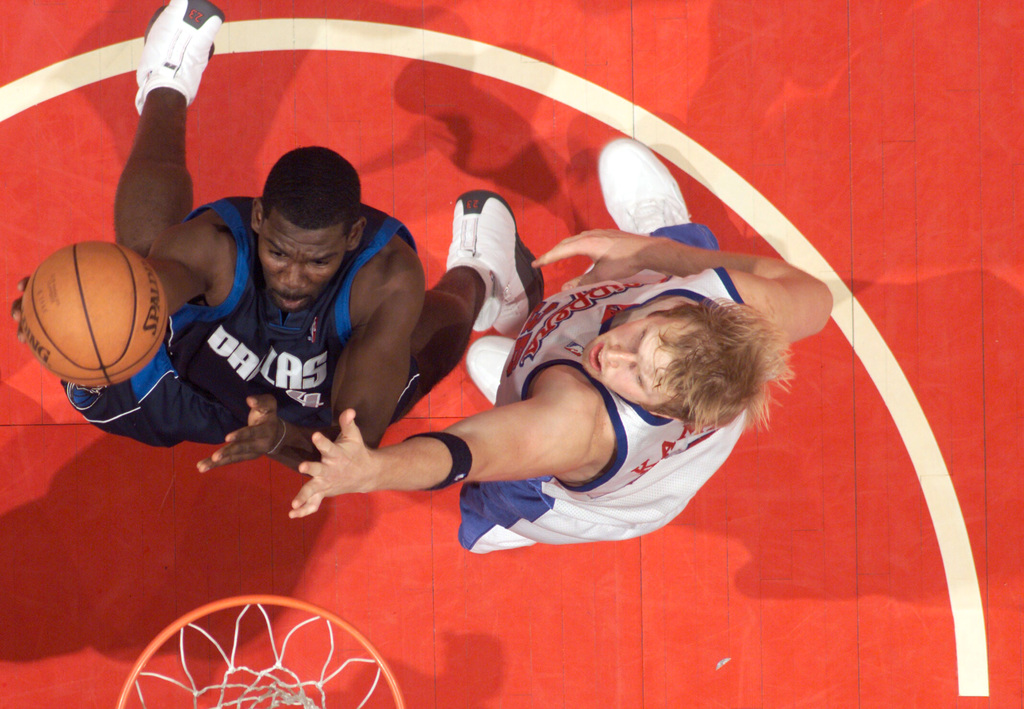Ball: (38, 238, 168, 392)
